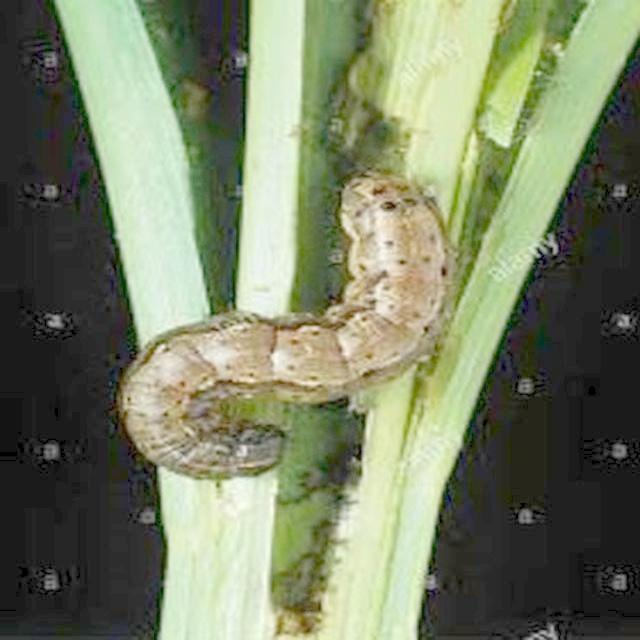gusano_cogollero: (112, 164, 452, 483)
